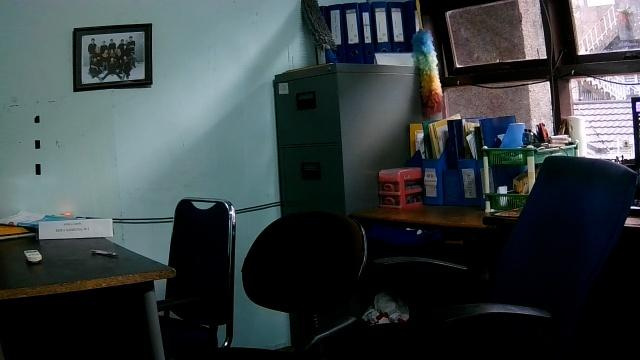Filing Cabinet: (273, 63, 351, 217)
Kursi: (154, 196, 235, 352)
Meja: (0, 214, 177, 358)
